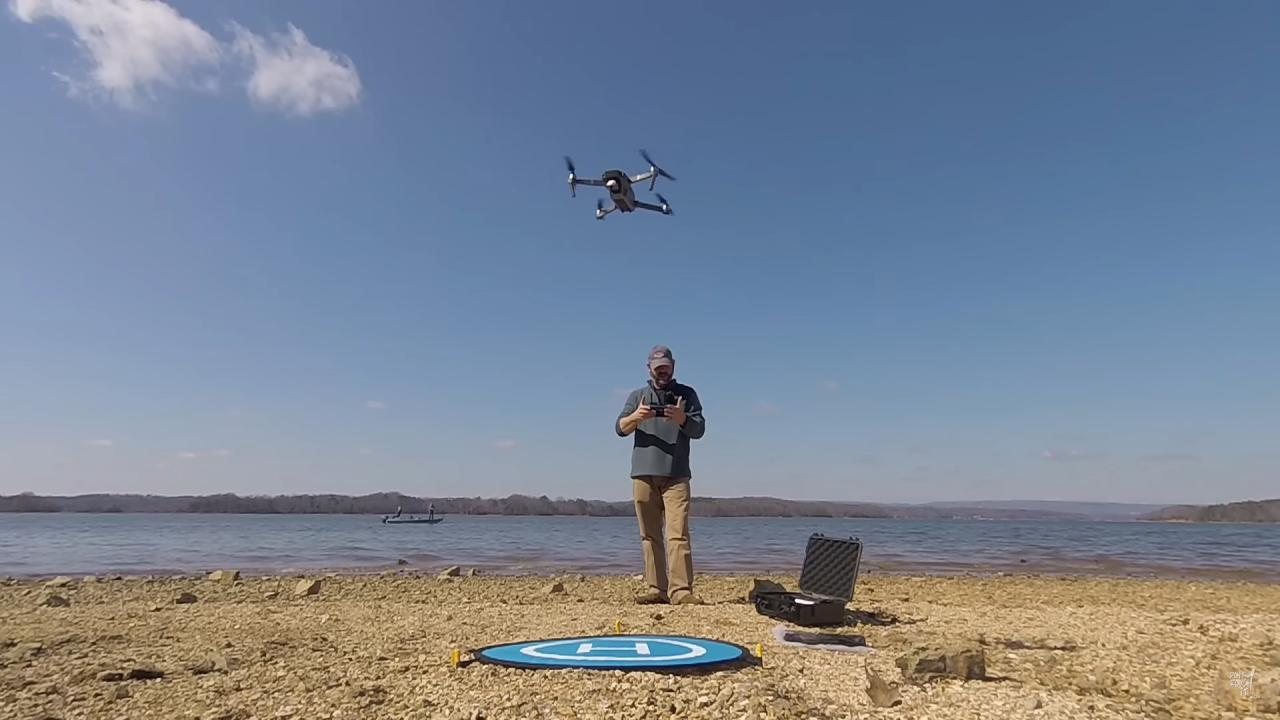Drone: (556, 143, 687, 229)
